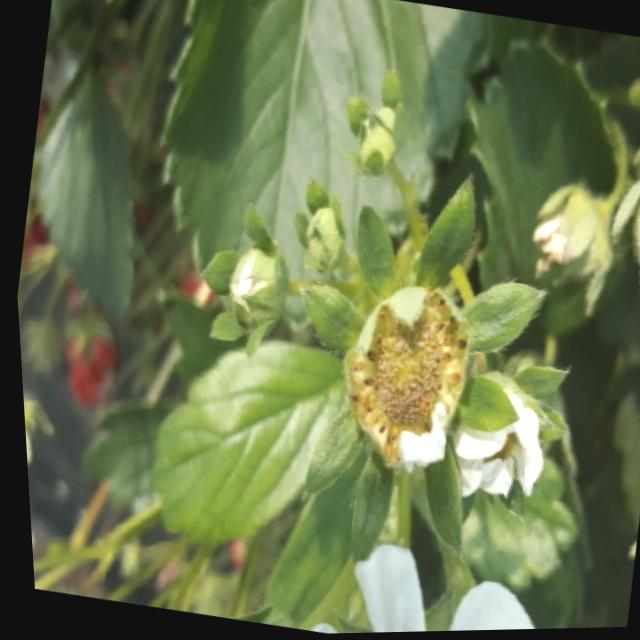Blossom Blight: (335, 293, 464, 465)
